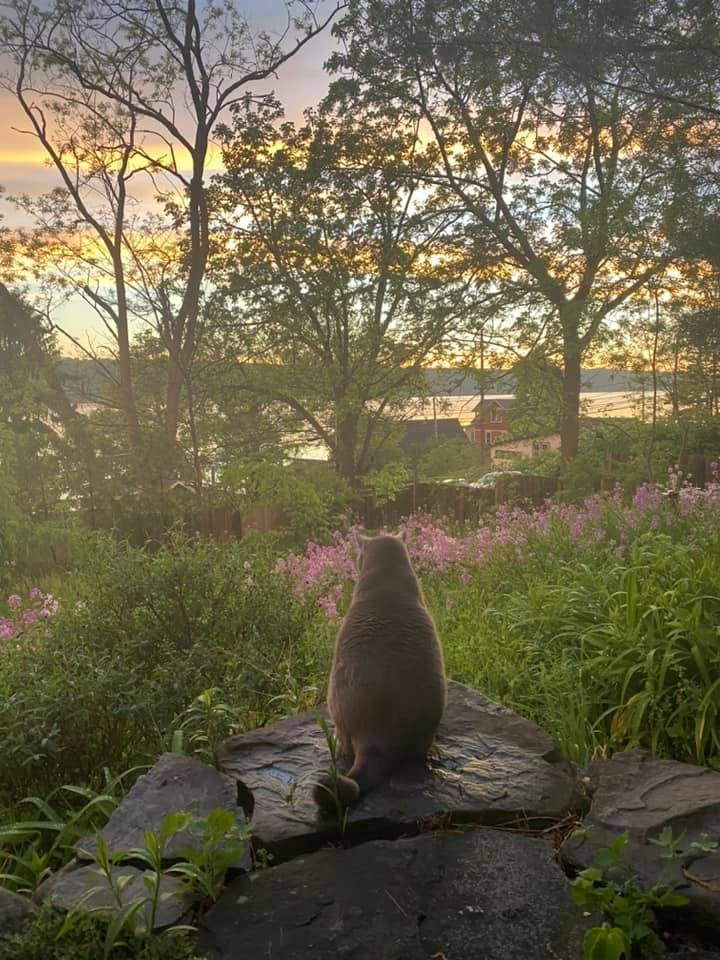kedo: (313, 534, 447, 813)
